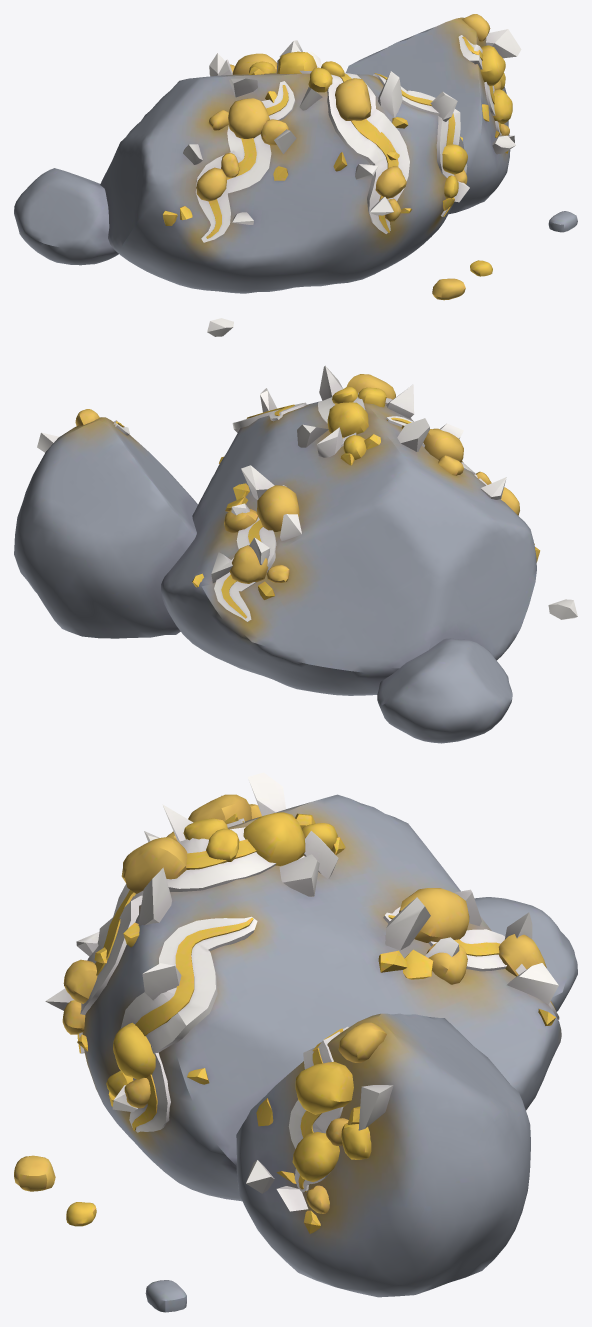
The model's file is gold-ore-rock.glb.
The picture shows the model from 3 angles, top to bottom: view 1: azimuth 30°, elevation 25°; view 2: azimuth 150°, elevation 25°; view 3: azimuth 270°, elevation 25°; orthographic projection. The views are drawn at different scales.
Visible parts, largest first — view 1: gold-ore-rock_body; view 2: gold-ore-rock_body; view 3: gold-ore-rock_body.
Boxes of the visible parts, x1,y1,x2,y2 form: gold-ore-rock_body: [14, 14, 577, 336]; gold-ore-rock_body: [14, 365, 577, 743]; gold-ore-rock_body: [14, 772, 577, 1312].
Size of the model in its own units: 1.05 by 0.4462 by 0.7266.
Materials: 1 (1 with a texture image).
